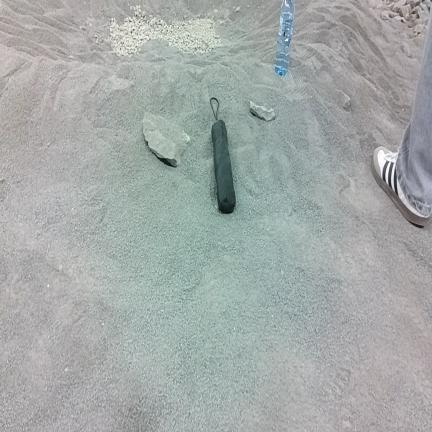Rock: (143, 113, 190, 166), (250, 101, 275, 121), (338, 91, 350, 110), (393, 0, 406, 12), (400, 5, 411, 19), (370, 0, 385, 8), (419, 11, 428, 24), (403, 43, 411, 57), (413, 24, 423, 34), (407, 13, 418, 22), (418, 3, 428, 12), (408, 19, 419, 27), (409, 0, 420, 8), (381, 11, 389, 20), (394, 16, 406, 22), (387, 2, 395, 10), (389, 11, 398, 18), (424, 0, 431, 9), (224, 10, 230, 19), (214, 9, 218, 14), (236, 7, 240, 12)
